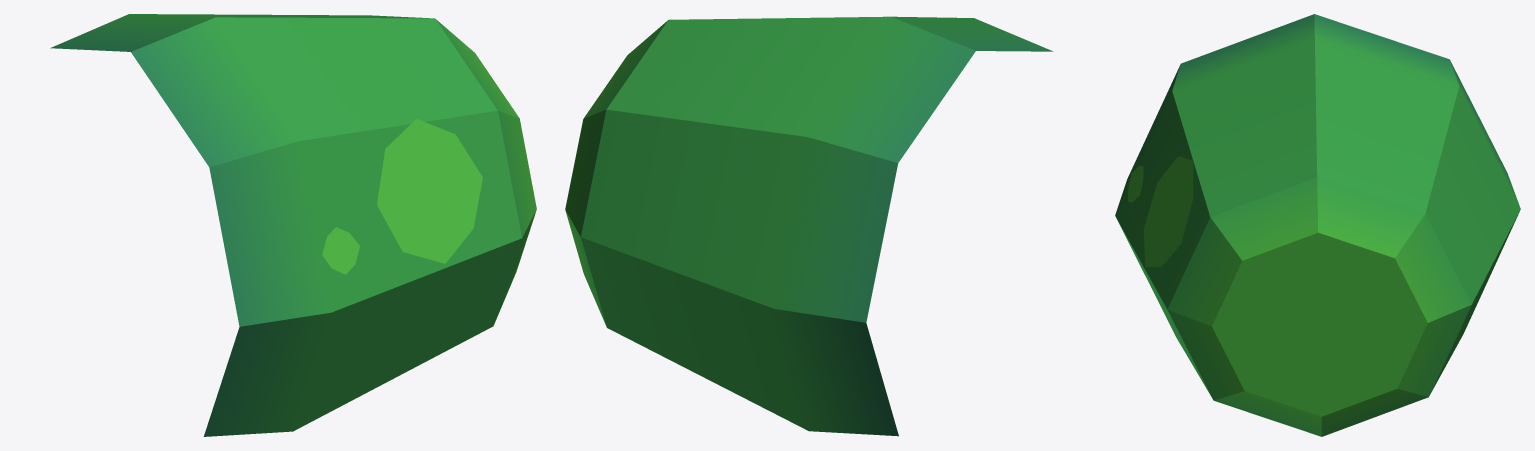
The model's file is YetiScannerLightBulbGreen.glb.
3 views of the same model, side by side, from view 1: azimuth 30°, elevation 25°; view 2: azimuth 150°, elevation 25°; view 3: azimuth 270°, elevation 25° (orthographic). The views are drawn at different scales.
Parts seen in each view (by area): view 1: YetiScannerLightBulbGreen; view 2: YetiScannerLightBulbGreen; view 3: YetiScannerLightBulbGreen.
Part boxes in pixels (left/top/right/bottom): YetiScannerLightBulbGreen: left=50, top=14, right=536, bottom=436; YetiScannerLightBulbGreen: left=565, top=16, right=1053, bottom=436; YetiScannerLightBulbGreen: left=1115, top=14, right=1520, bottom=436.
Size of the model in its own units: 0.1387 by 0.1554 by 0.1625.
